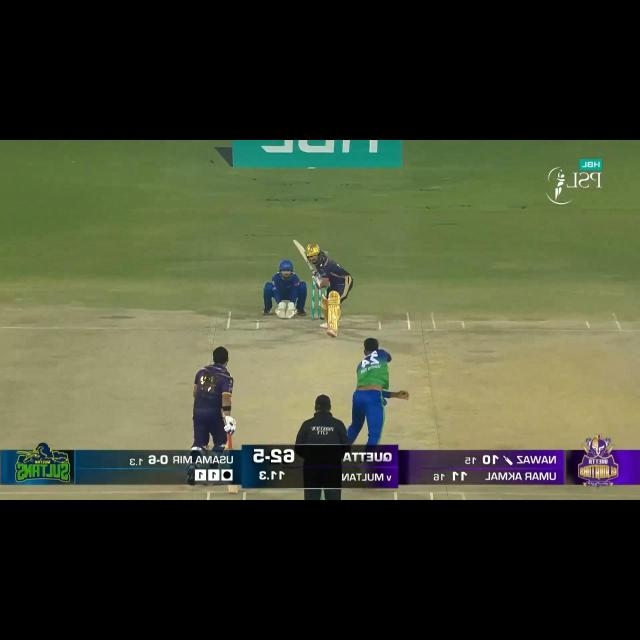bat: (293, 239, 315, 274)
toe: (228, 485, 239, 495), (292, 239, 302, 248)
